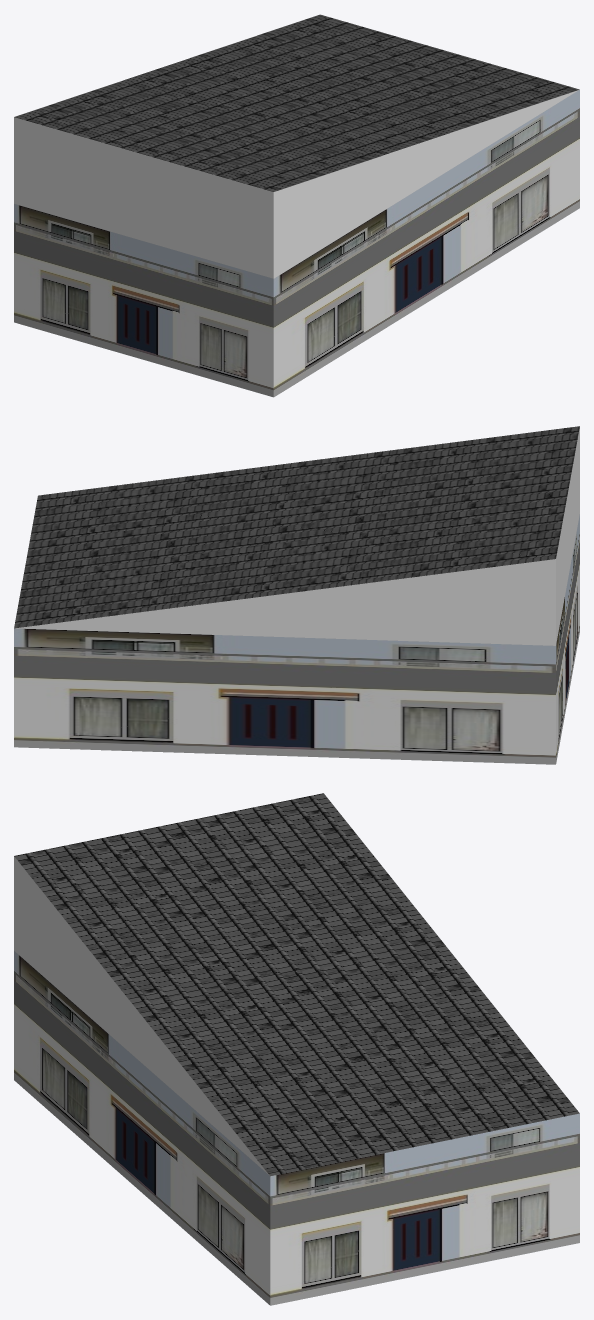
The picture shows the model from 3 angles, top to bottom: view 1: azimuth 30°, elevation 25°; view 2: azimuth 150°, elevation 25°; view 3: azimuth 270°, elevation 25°; orthographic projection. The views are drawn at different scales.
Visible parts, largest first — view 1: CityEngineMaterial_7_m, CityEngineMaterial_8_m, CityEngineMaterial_3_m; view 2: CityEngineMaterial_8_m, CityEngineMaterial_7_m, CityEngineMaterial_3_m; view 3: CityEngineMaterial_8_m, CityEngineMaterial_7_m, CityEngineMaterial_3_m.
Boxes of the visible parts, x1=… form: CityEngineMaterial_7_m: x1=14, y1=90, x2=579, y2=397; CityEngineMaterial_8_m: x1=14, y1=14, x2=579, y2=191; CityEngineMaterial_3_m: x1=14, y1=90, x2=578, y2=278; CityEngineMaterial_8_m: x1=14, y1=426, x2=579, y2=628; CityEngineMaterial_7_m: x1=14, y1=514, x2=579, y2=764; CityEngineMaterial_3_m: x1=15, y1=427, x2=579, y2=645; CityEngineMaterial_8_m: x1=14, y1=793, x2=579, y2=1176; CityEngineMaterial_7_m: x1=14, y1=951, x2=579, y2=1305; CityEngineMaterial_3_m: x1=14, y1=856, x2=269, y2=1175.
Bounding box in the file's own units: 32.56 × 11.8 × 27.
